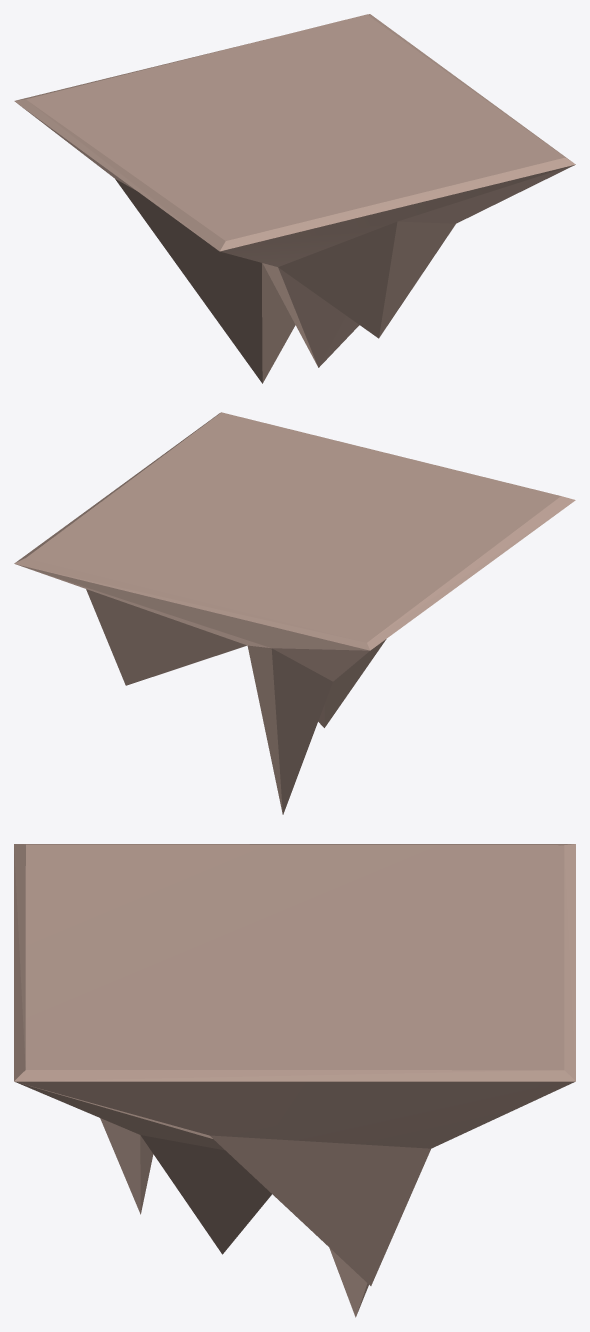
The picture shows the model from 3 angles, top to bottom: view 1: azimuth 30°, elevation 25°; view 2: azimuth 150°, elevation 25°; view 3: azimuth 270°, elevation 25°; orthographic projection. The views are drawn at different scales.
Visible parts, largest first — view 1: mesh1926919455; view 2: mesh1926919455; view 3: mesh1926919455.
Part boxes in pixels (x1=…): mesh1926919455: x1=14, y1=14, x2=575, y2=383; mesh1926919455: x1=14, y1=412, x2=575, y2=814; mesh1926919455: x1=14, y1=844, x2=575, y2=1317.
Bounding box in the file's own units: 6.09 × 4.42 × 6.09.
